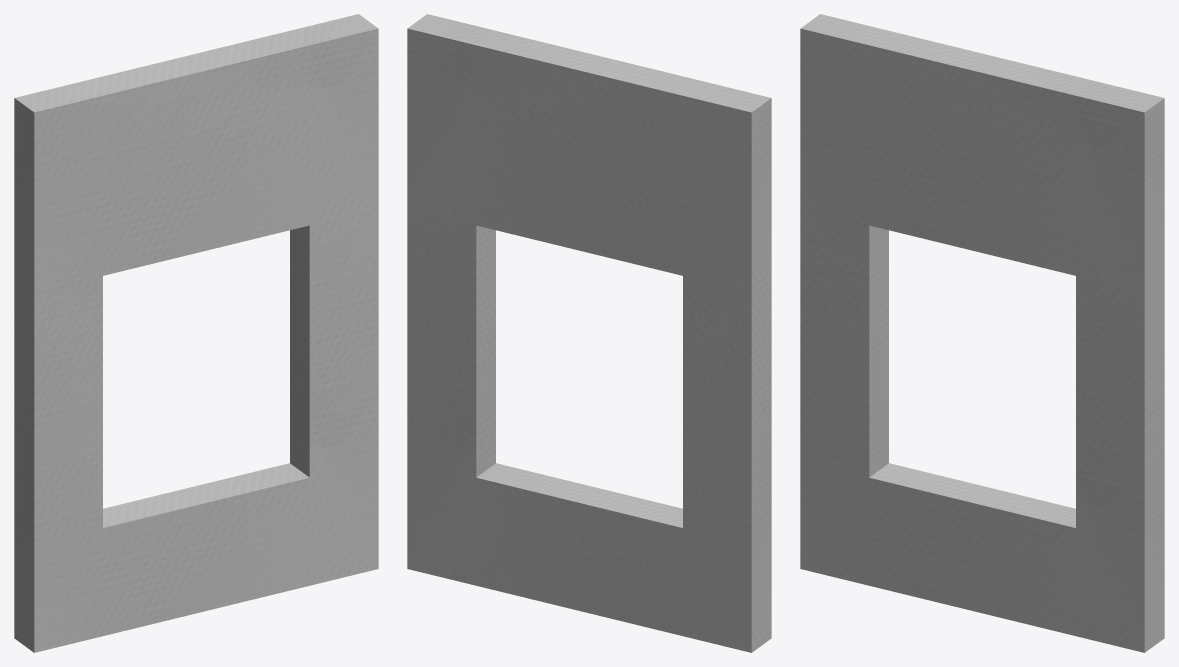
File: WindowTile.dae
The picture shows the model from 3 angles, left to right: view 1: azimuth 30°, elevation 25°; view 2: azimuth 150°, elevation 25°; view 3: azimuth 330°, elevation 25°; orthographic projection.
Parts seen in each view (by area): view 1: WindowTile; view 2: WindowTile; view 3: WindowTile.
Part boxes in pixels (x1,y1,x2,y2): WindowTile: [14, 14, 378, 652]; WindowTile: [407, 14, 771, 652]; WindowTile: [800, 14, 1164, 652].
Size of the model in its own units: 2 by 0.2 by 3.
Materials: 1 (1 with a texture image).
